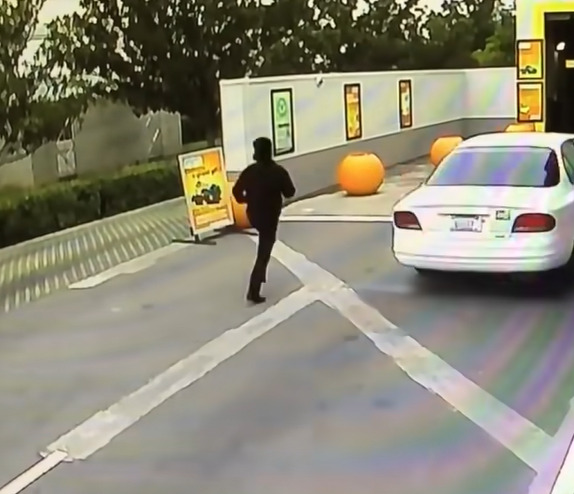person: (230, 136, 299, 304)
